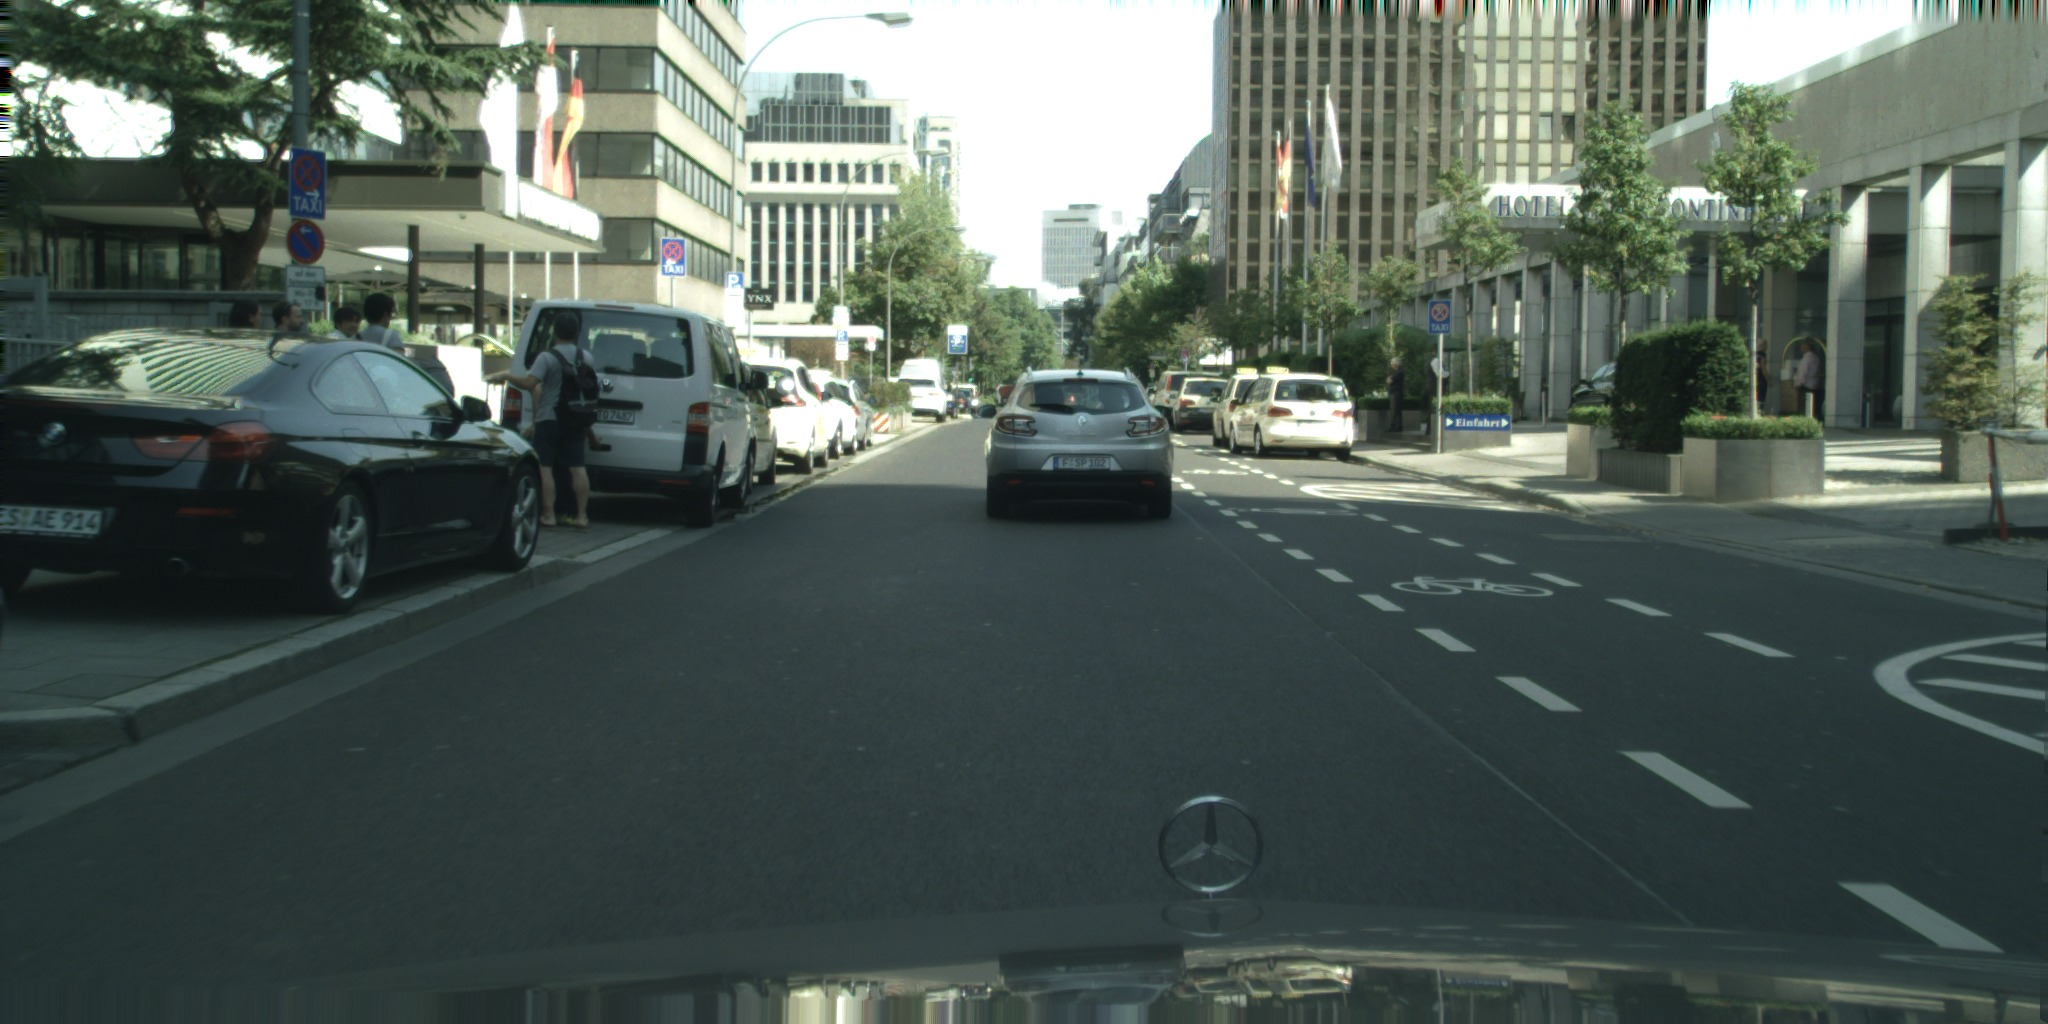car: (0, 327, 545, 613), (471, 300, 768, 526), (548, 314, 778, 493), (978, 366, 1173, 520), (1229, 366, 1353, 462), (727, 357, 829, 473), (792, 369, 857, 459), (1210, 368, 1277, 448), (802, 378, 874, 451), (1153, 369, 1220, 428), (1571, 356, 1633, 415), (1173, 378, 1236, 434), (898, 376, 946, 422), (900, 359, 946, 403), (937, 388, 978, 414), (940, 383, 976, 411), (1137, 385, 1165, 412), (932, 391, 955, 418), (943, 392, 968, 414)
person: (487, 309, 600, 527), (348, 291, 404, 373), (1732, 339, 1772, 422), (1425, 344, 1449, 434), (326, 306, 362, 362), (1794, 343, 1819, 422), (227, 297, 261, 338), (1386, 357, 1404, 431), (275, 302, 305, 346)
truck: (996, 383, 1017, 406)
